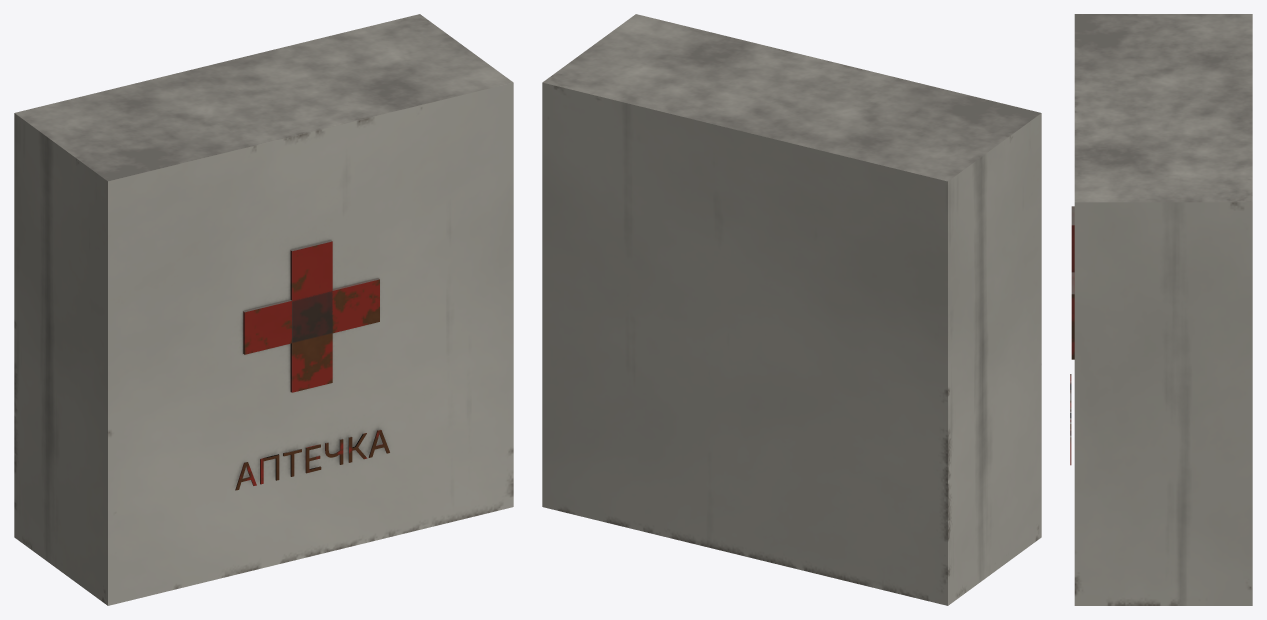
The model's file is SM_FirstAidBox.fbx.
The picture shows the model from 3 angles, left to right: view 1: azimuth 30°, elevation 25°; view 2: azimuth 150°, elevation 25°; view 3: azimuth 270°, elevation 25°; orthographic projection. The views are drawn at different scales.
Parts seen in each view (by area): view 1: SM_FirstAidBox; view 2: SM_FirstAidBox; view 3: SM_FirstAidBox.
Boxes of the visible parts, x1,y1,x2,y2 form: SM_FirstAidBox: [14, 14, 513, 605]; SM_FirstAidBox: [542, 14, 1041, 605]; SM_FirstAidBox: [1070, 14, 1252, 605].
Bounding box in the file's own units: 0.3 × 0.3 × 0.1229.
1 material, 1 textured.
